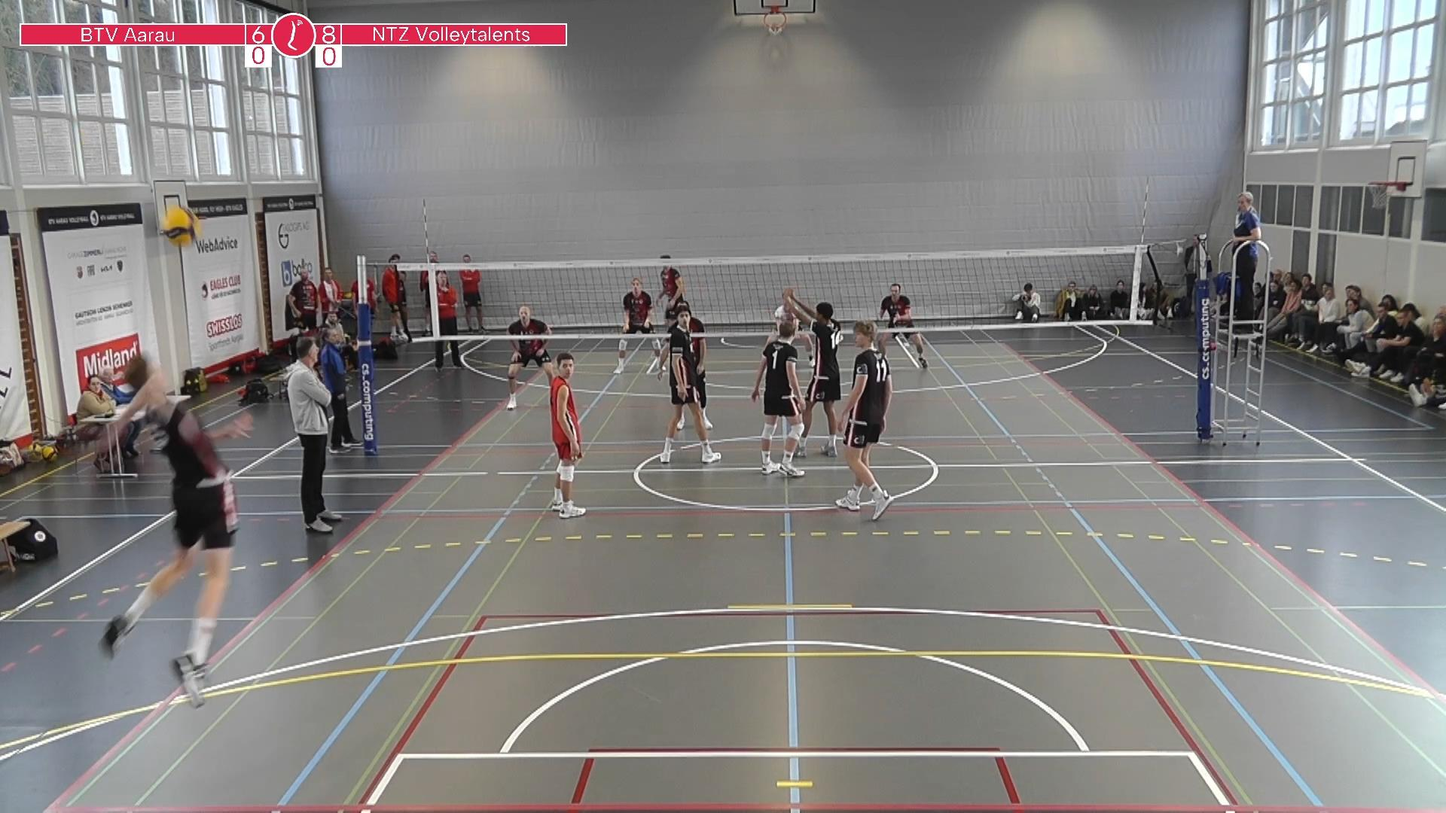Player: (836, 321, 893, 519), (659, 301, 721, 463), (786, 289, 842, 456), (751, 321, 804, 477), (549, 352, 585, 518), (506, 305, 554, 410), (877, 283, 926, 367), (764, 290, 814, 364), (687, 306, 713, 430), (622, 277, 652, 334), (658, 265, 685, 327)
Serve: (77, 351, 263, 682)
ball: (162, 206, 199, 250)
